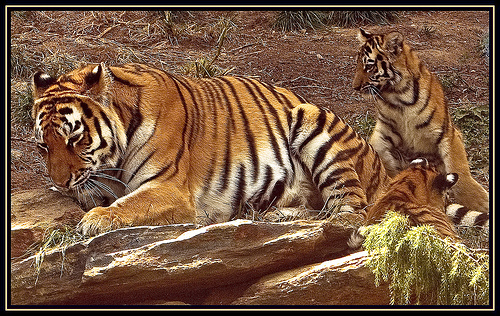Tigre: (24, 66, 340, 222), (346, 21, 472, 172)
